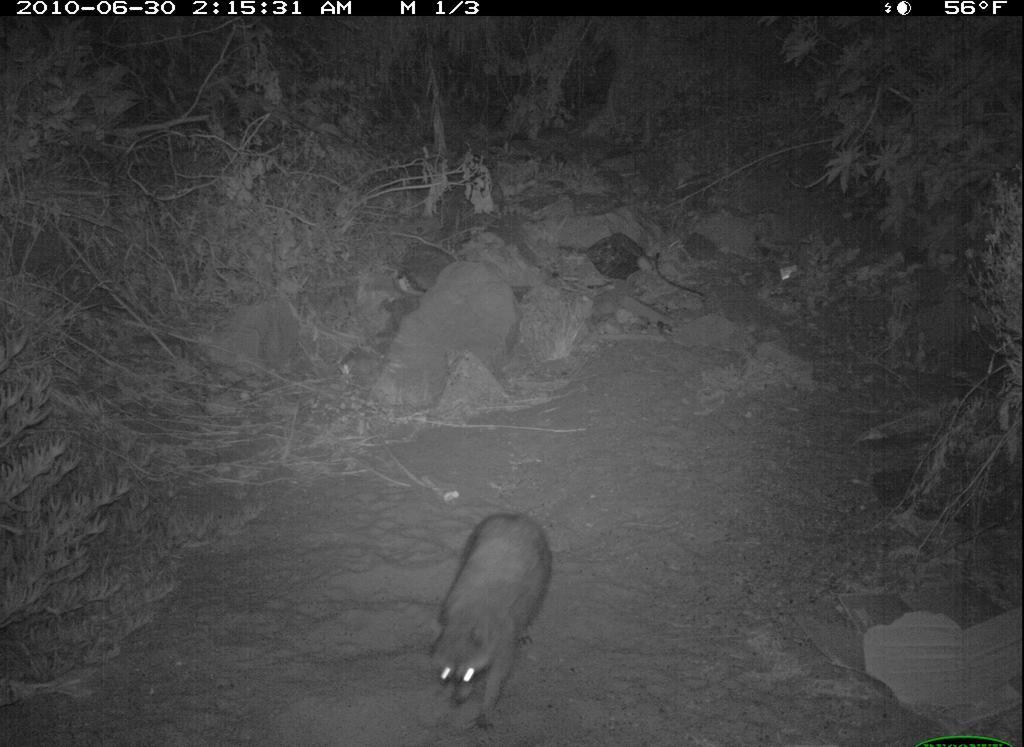raccoon: (405, 507, 579, 726)
